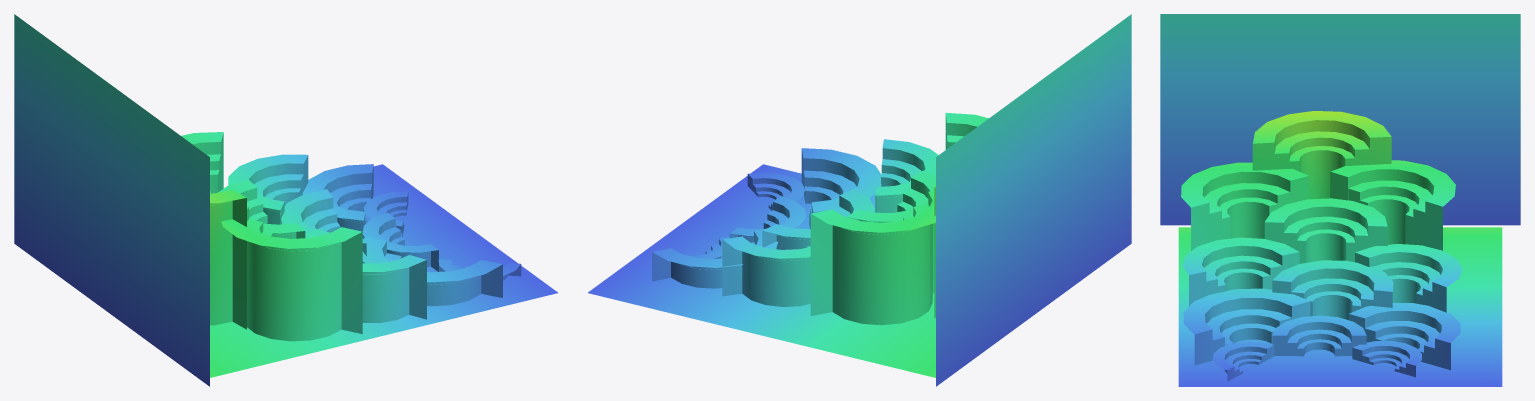
The model's file is lev_2.fbx.
The picture shows the model from 3 angles, left to right: view 1: azimuth 30°, elevation 25°; view 2: azimuth 150°, elevation 25°; view 3: azimuth 270°, elevation 25°; orthographic projection. The views are drawn at different scales.
Parts seen in each view (by area): view 1: lev_gra_3; view 2: lev_gra_3; view 3: lev_gra_3.
Part boxes in pixels (box(x1,y1,x2,y2)): lev_gra_3: box(14, 14, 557, 386); lev_gra_3: box(588, 14, 1131, 386); lev_gra_3: box(1160, 14, 1520, 386).
Size of the model in its own units: 8056 by 5007 by 7619.
